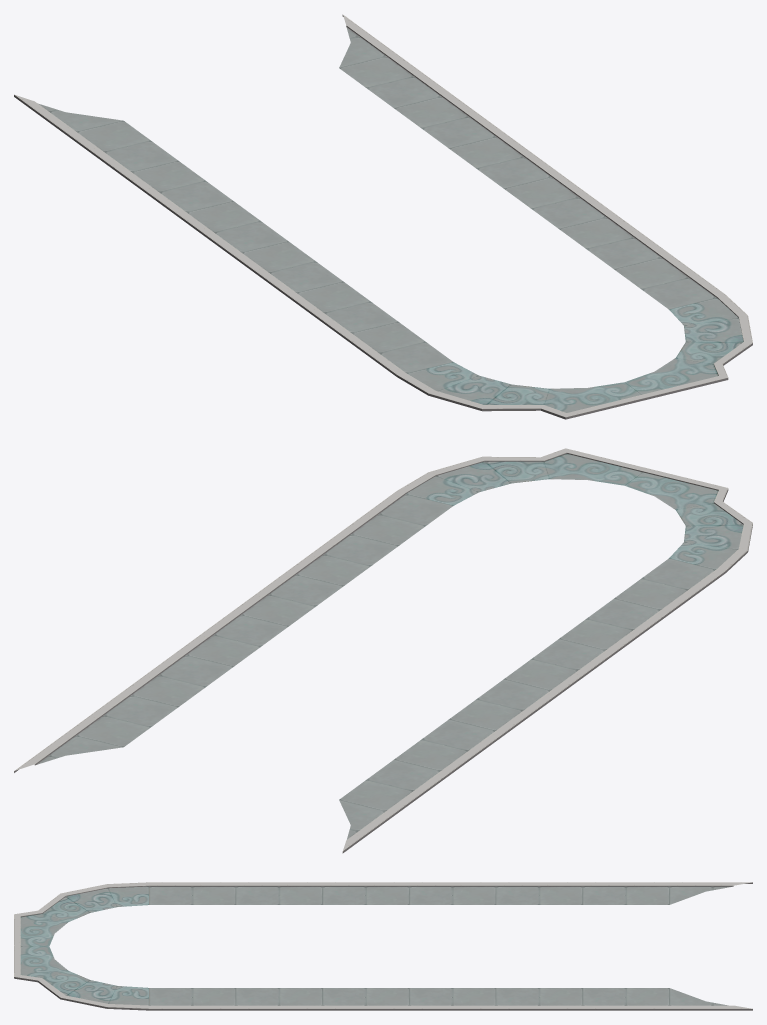
Rendered from W3_HD_GongHuiBoss_dimian_06_06_D.FBX.
3 renders of one model, top to bottom at view 1: azimuth 30°, elevation 25°; view 2: azimuth 150°, elevation 25°; view 3: azimuth 270°, elevation 25°, orthographic. The views are drawn at different scales.
Parts seen in each view (by area): view 1: W3_HD_GongHuiBoss_dimian_06_06_D; view 2: W3_HD_GongHuiBoss_dimian_06_06_D; view 3: W3_HD_GongHuiBoss_dimian_06_06_D.
Boxes of the visible parts, x1,y1,x2,y2 form: W3_HD_GongHuiBoss_dimian_06_06_D: [14, 14, 752, 419]; W3_HD_GongHuiBoss_dimian_06_06_D: [14, 448, 752, 853]; W3_HD_GongHuiBoss_dimian_06_06_D: [14, 882, 752, 1010].
Bounding box in the file's own units: 20.59 × 0.1347 × 50.83.
